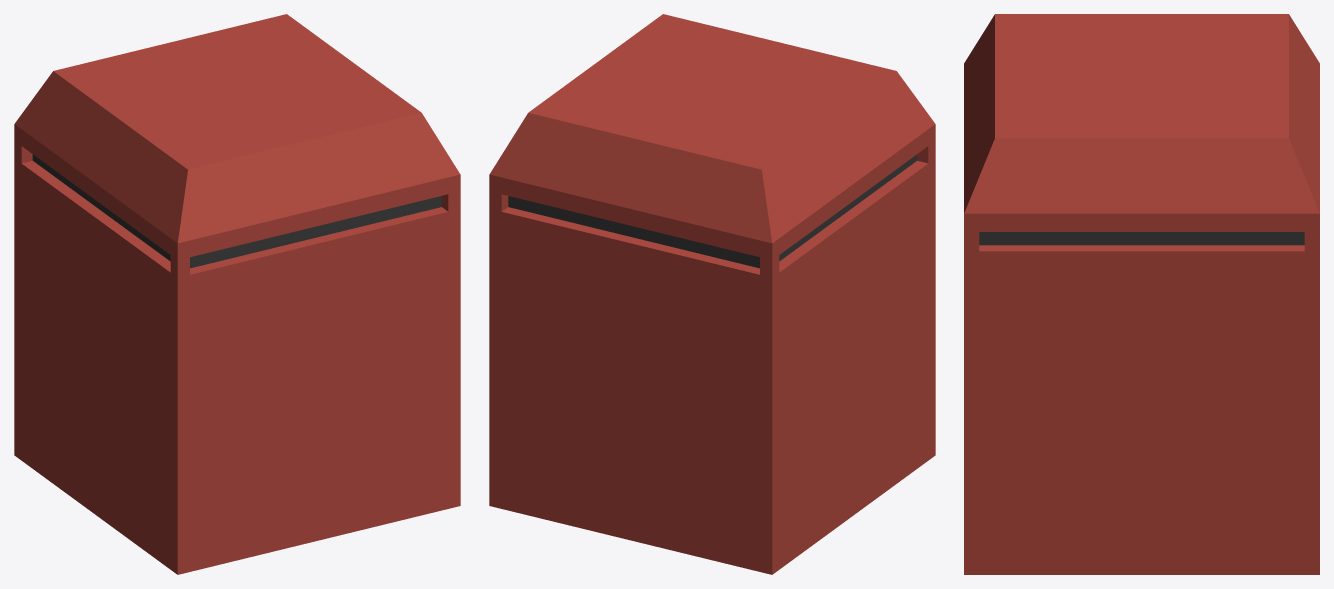
File: Post.fbx
3 renders of one model, left to right at view 1: azimuth 30°, elevation 25°; view 2: azimuth 150°, elevation 25°; view 3: azimuth 270°, elevation 25°, orthographic. The views are drawn at different scales.
Visible parts, largest first — view 1: Cube.003; view 2: Cube.003; view 3: Cube.003.
Part boxes in pixels (<box>): Cube.003: <box>14,14,460,574</box>; Cube.003: <box>489,14,935,574</box>; Cube.003: <box>964,14,1319,574</box>.
Size of the model in its own units: 53.41 by 70.18 by 53.41.
